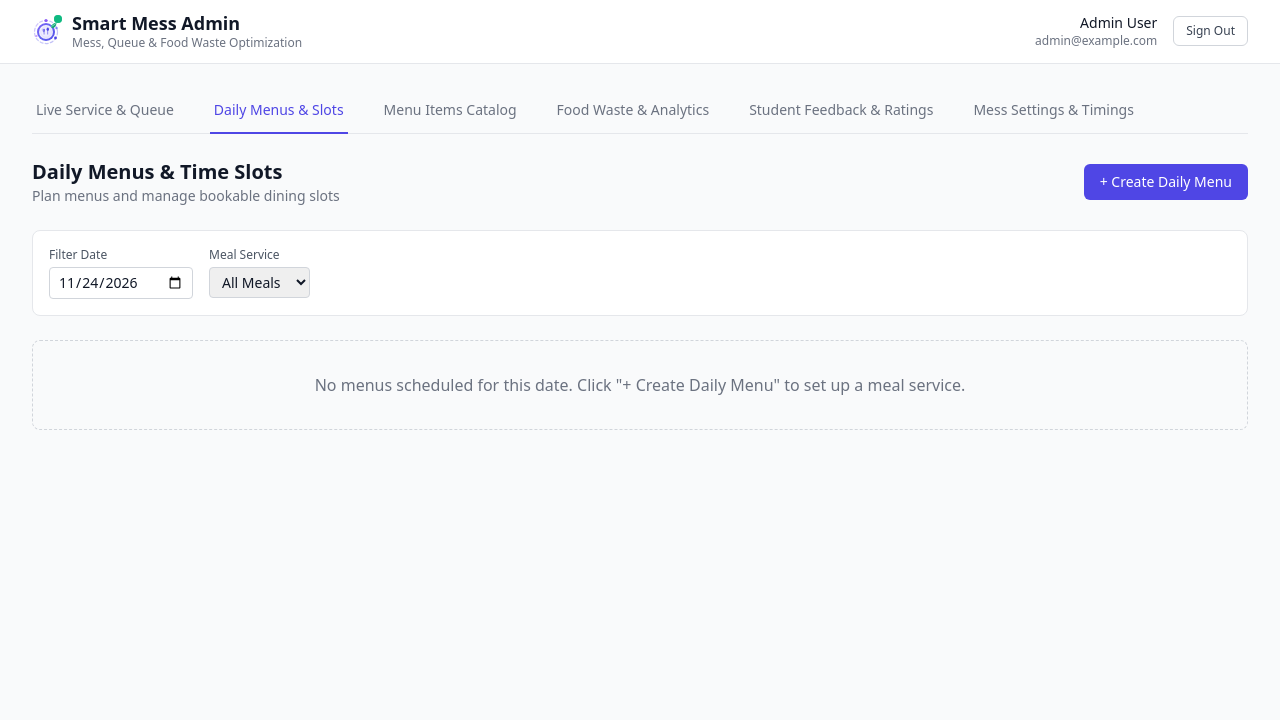
it: Food Waste Tracking & Analytics UI (Phase 5) › renders the analytics summary cards accurately
Click the button "Food Waste & Analytics" at (633,110), box [553,88,713,134]
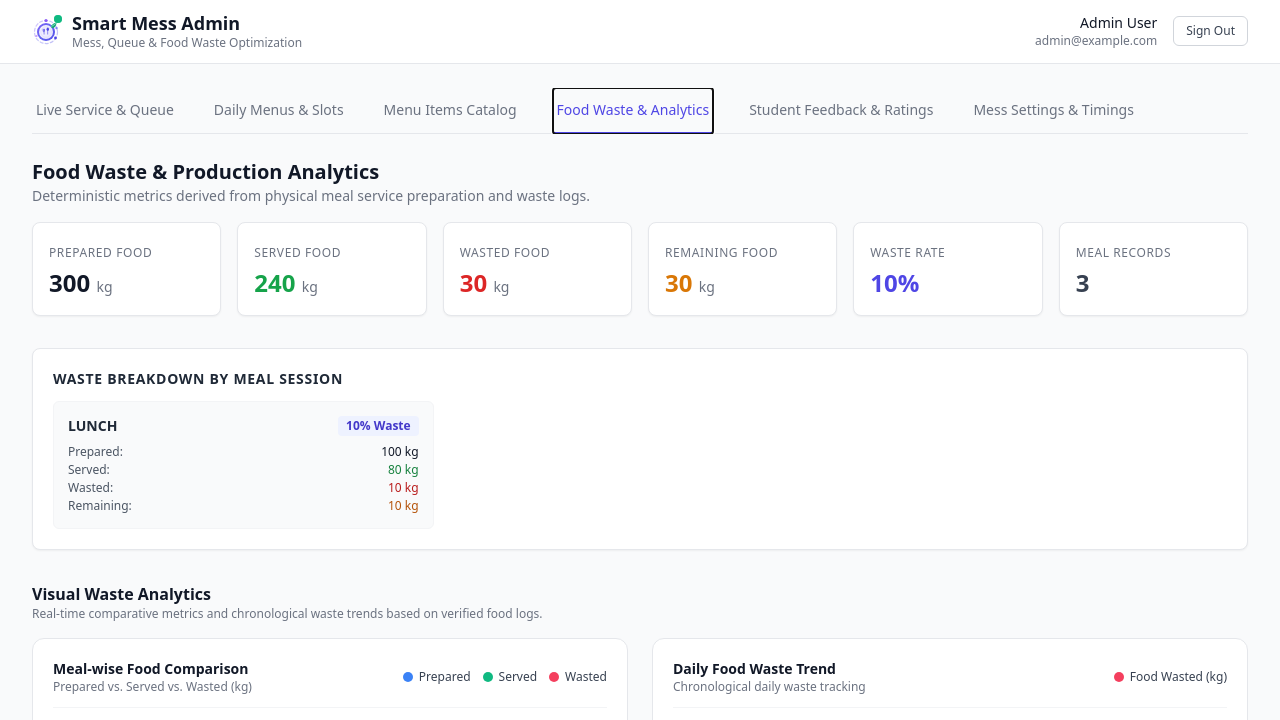
Now the element with test id "stat-prepared" shows "300", box [49,266,90,298]
Now the element with test id "stat-served" shows "240", box [254,266,296,298]
Now the text with test id "stat-waste-pct" reads "10%", box [870,266,919,298]
